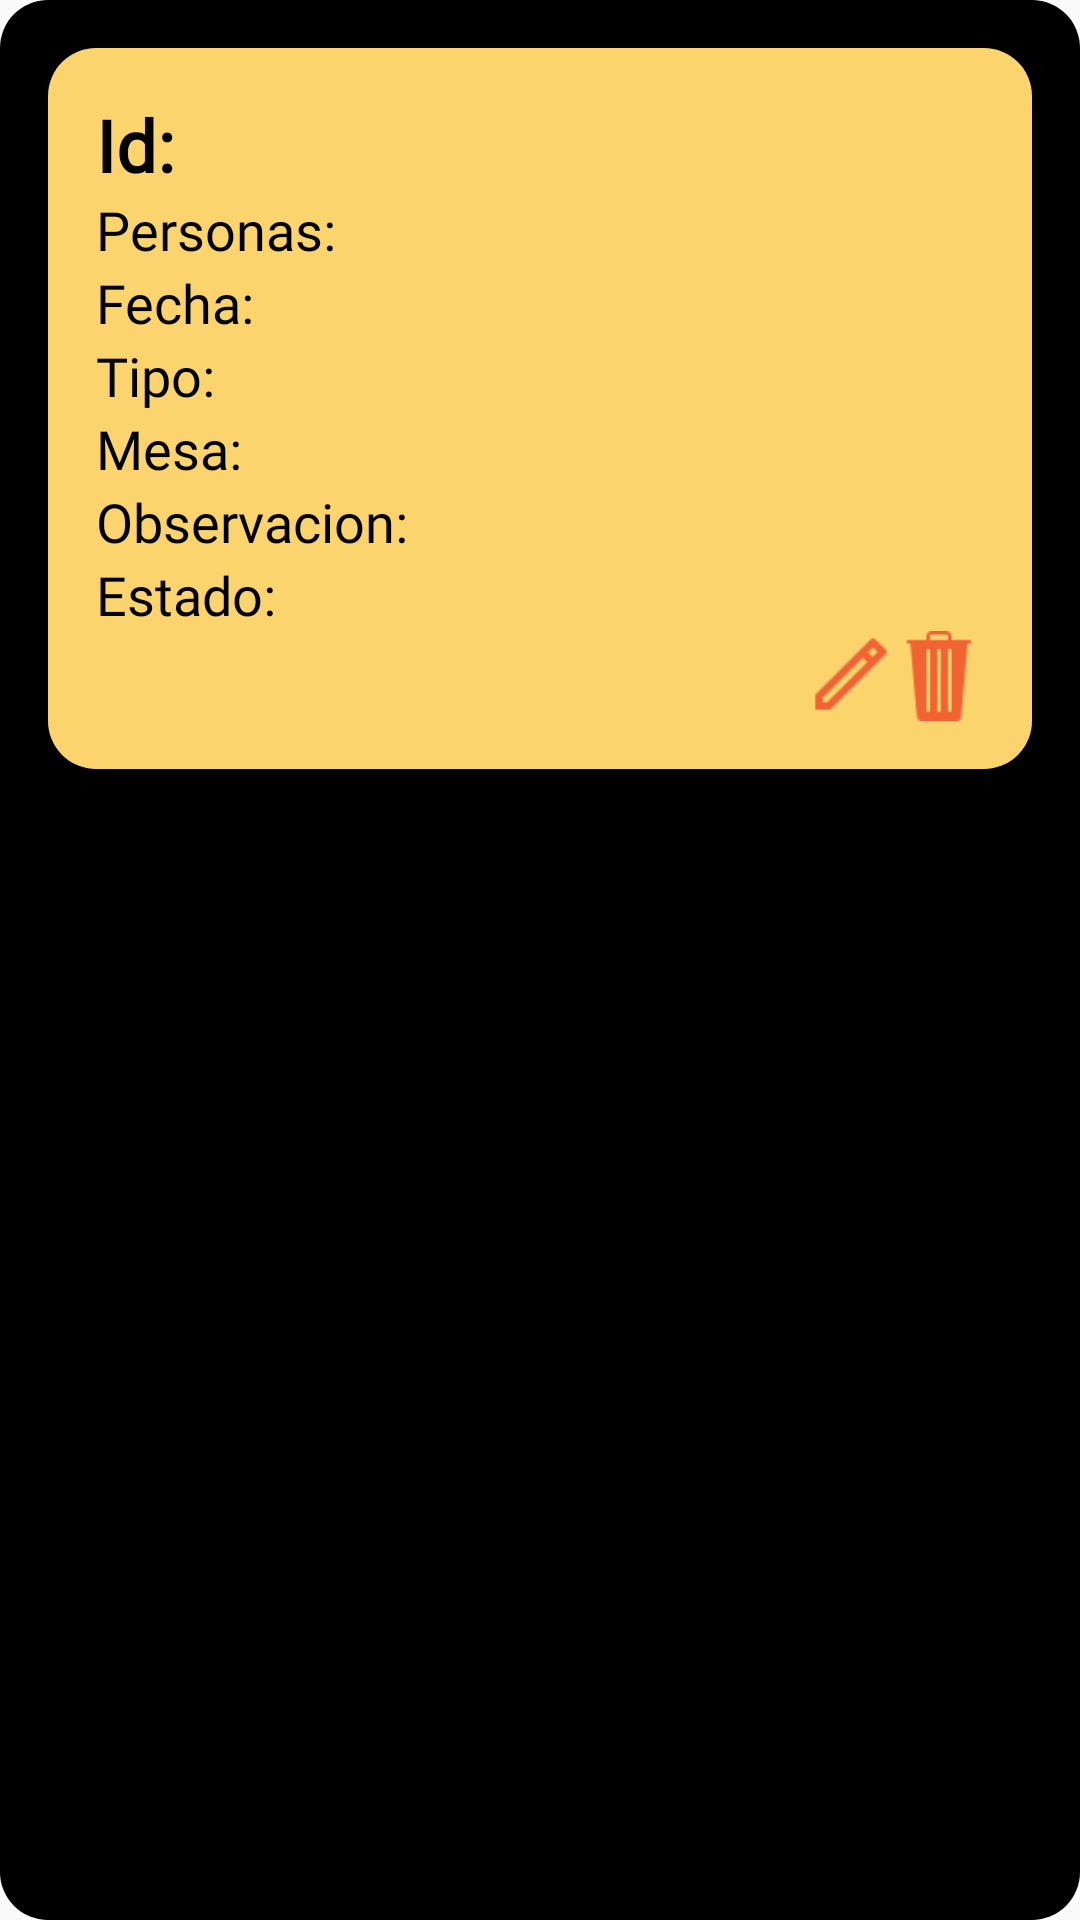

Locate icon controls on the screen. Image size 1080px×1920px, boxes as box=[x1, y1, x2, y2].
Editar tu reserva: box=[815, 638, 887, 710]
Eliminar tu reserva: box=[906, 631, 972, 721]
